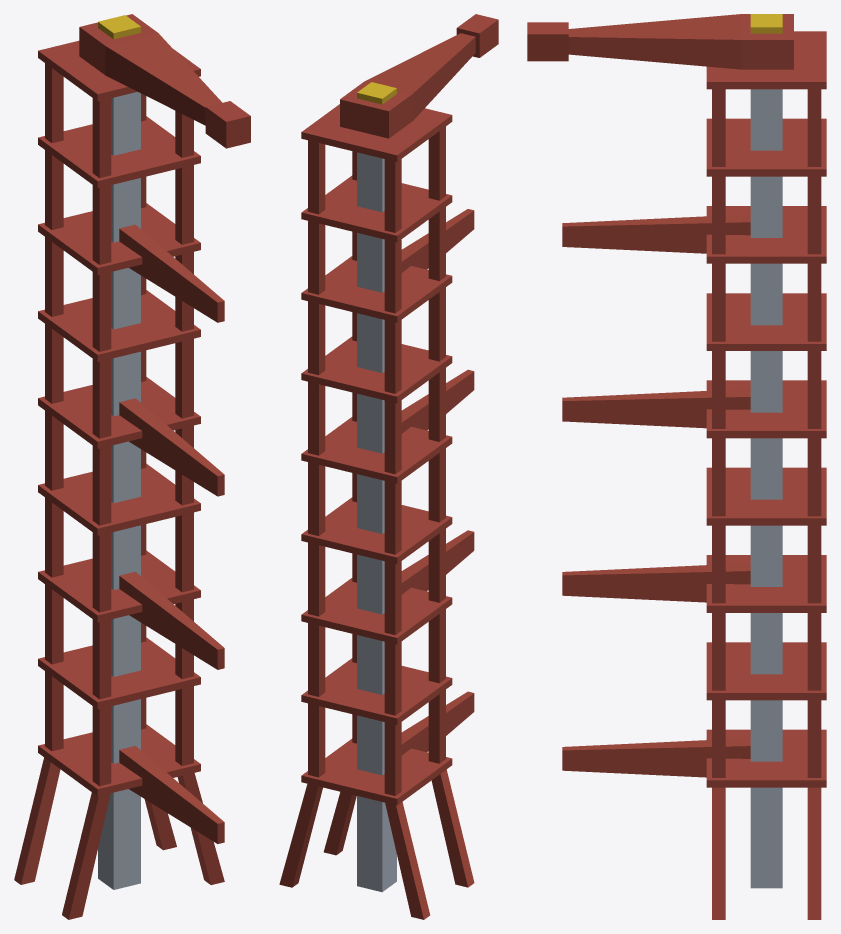
Rendered from SM_Bld_ShuttleLaunchTower_02.fbx.
3 renders of one model, left to right at view 1: azimuth 30°, elevation 25°; view 2: azimuth 150°, elevation 25°; view 3: azimuth 270°, elevation 25°, orthographic. The views are drawn at different scales.
Parts seen in each view (by area): view 1: SM_Bld_ShuttleLaunchTower_02; view 2: SM_Bld_ShuttleLaunchTower_02; view 3: SM_Bld_ShuttleLaunchTower_02.
Boxes of the visible parts, left/top/right/bottom form: SM_Bld_ShuttleLaunchTower_02: left=14, top=14, right=250, bottom=919; SM_Bld_ShuttleLaunchTower_02: left=279, top=14, right=498, bottom=919; SM_Bld_ShuttleLaunchTower_02: left=527, top=14, right=826, bottom=919.
Bounding box in the file's own units: 11.36 × 59.54 × 18.76.
